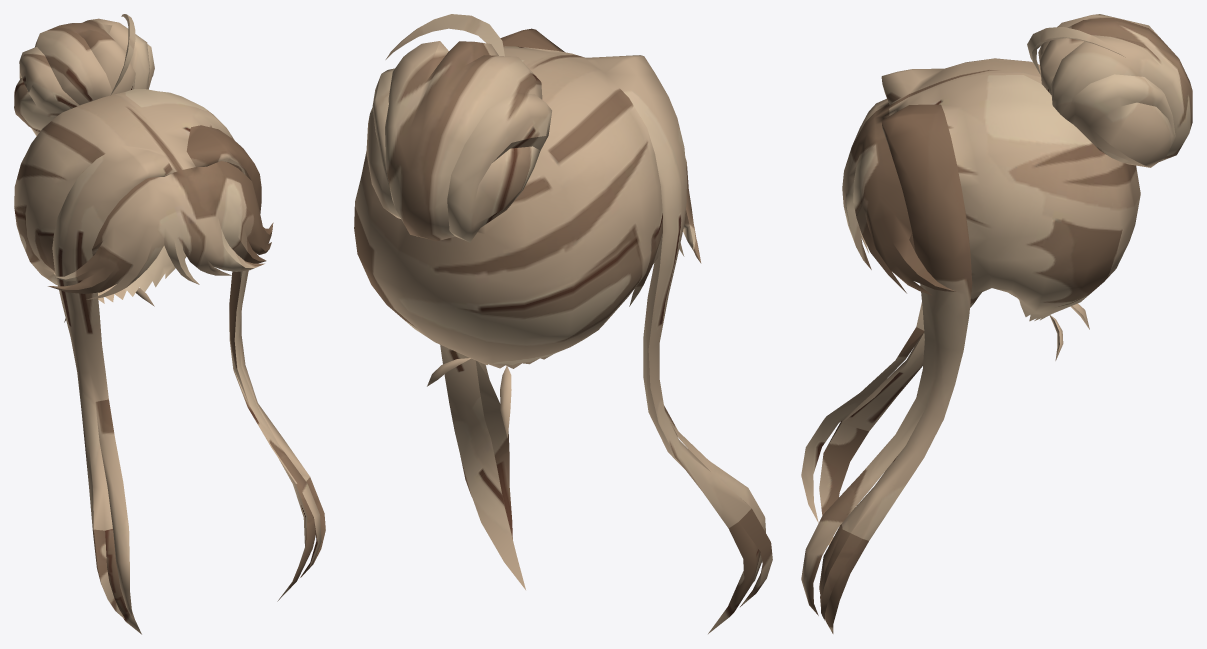
File: Hiar_02.fbx
The picture shows the model from 3 angles, left to right: view 1: azimuth 30°, elevation 25°; view 2: azimuth 150°, elevation 25°; view 3: azimuth 270°, elevation 25°; orthographic projection. The views are drawn at different scales.
Visible parts, largest first — view 1: hair033; view 2: hair033; view 3: hair033.
Boxes of the visible parts, x1,y1,x2,y2 form: hair033: (14, 14, 325, 634); hair033: (354, 14, 772, 633); hair033: (801, 14, 1192, 633).
Size of the model in its own units: 10.92 by 23.2 by 14.12.
Materials: 1 (1 with a texture image).
